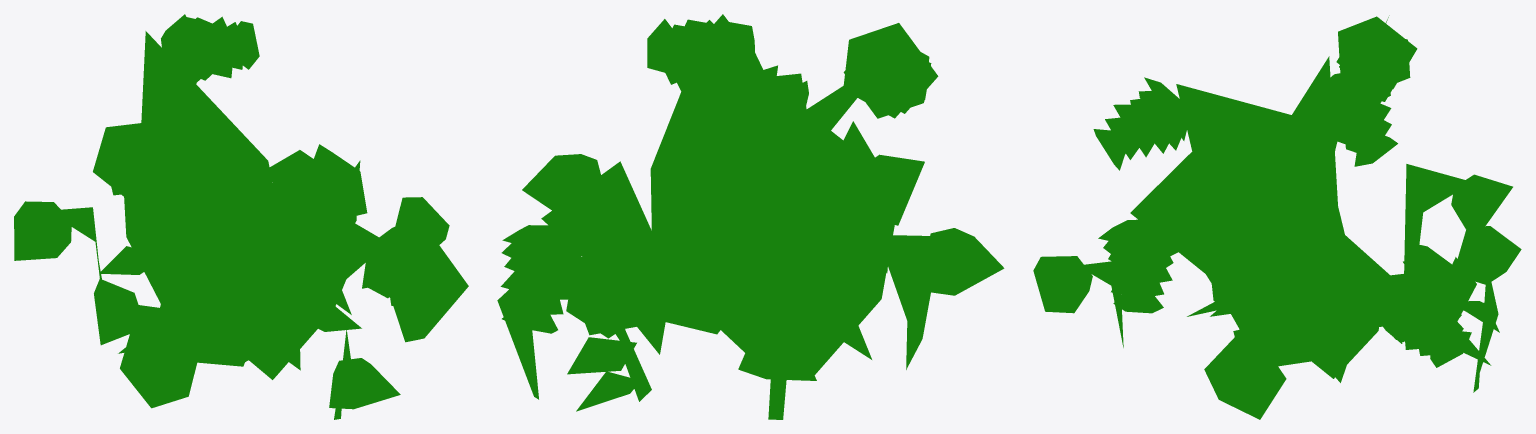
Rendered from Deathbells_3.fbx.
The picture shows the model from 3 angles, left to right: view 1: azimuth 30°, elevation 25°; view 2: azimuth 150°, elevation 25°; view 3: azimuth 270°, elevation 25°; orthographic projection. The views are drawn at different scales.
Visible parts, largest first — view 1: Deathbells_3; view 2: Deathbells_3; view 3: Deathbells_3.
Part boxes in pixels (x1,y1,x2,y2): Deathbells_3: [14, 14, 468, 419]; Deathbells_3: [497, 14, 1004, 419]; Deathbells_3: [1033, 15, 1521, 419].
Bounding box in the file's own units: 85.62 × 69.94 × 94.34.
